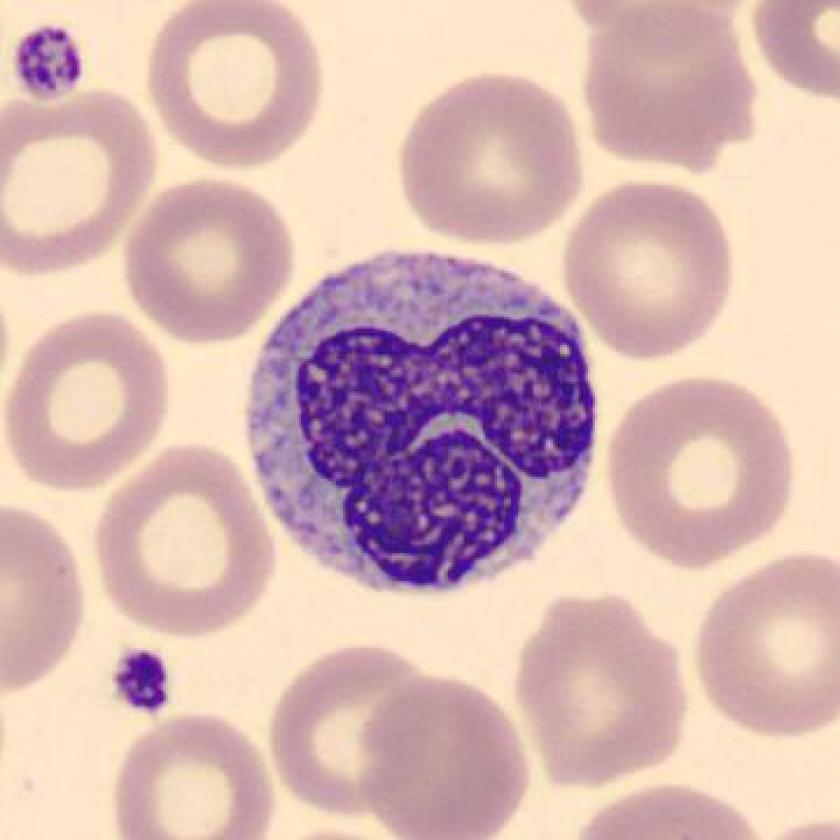monocyte: (232, 240, 617, 622)
